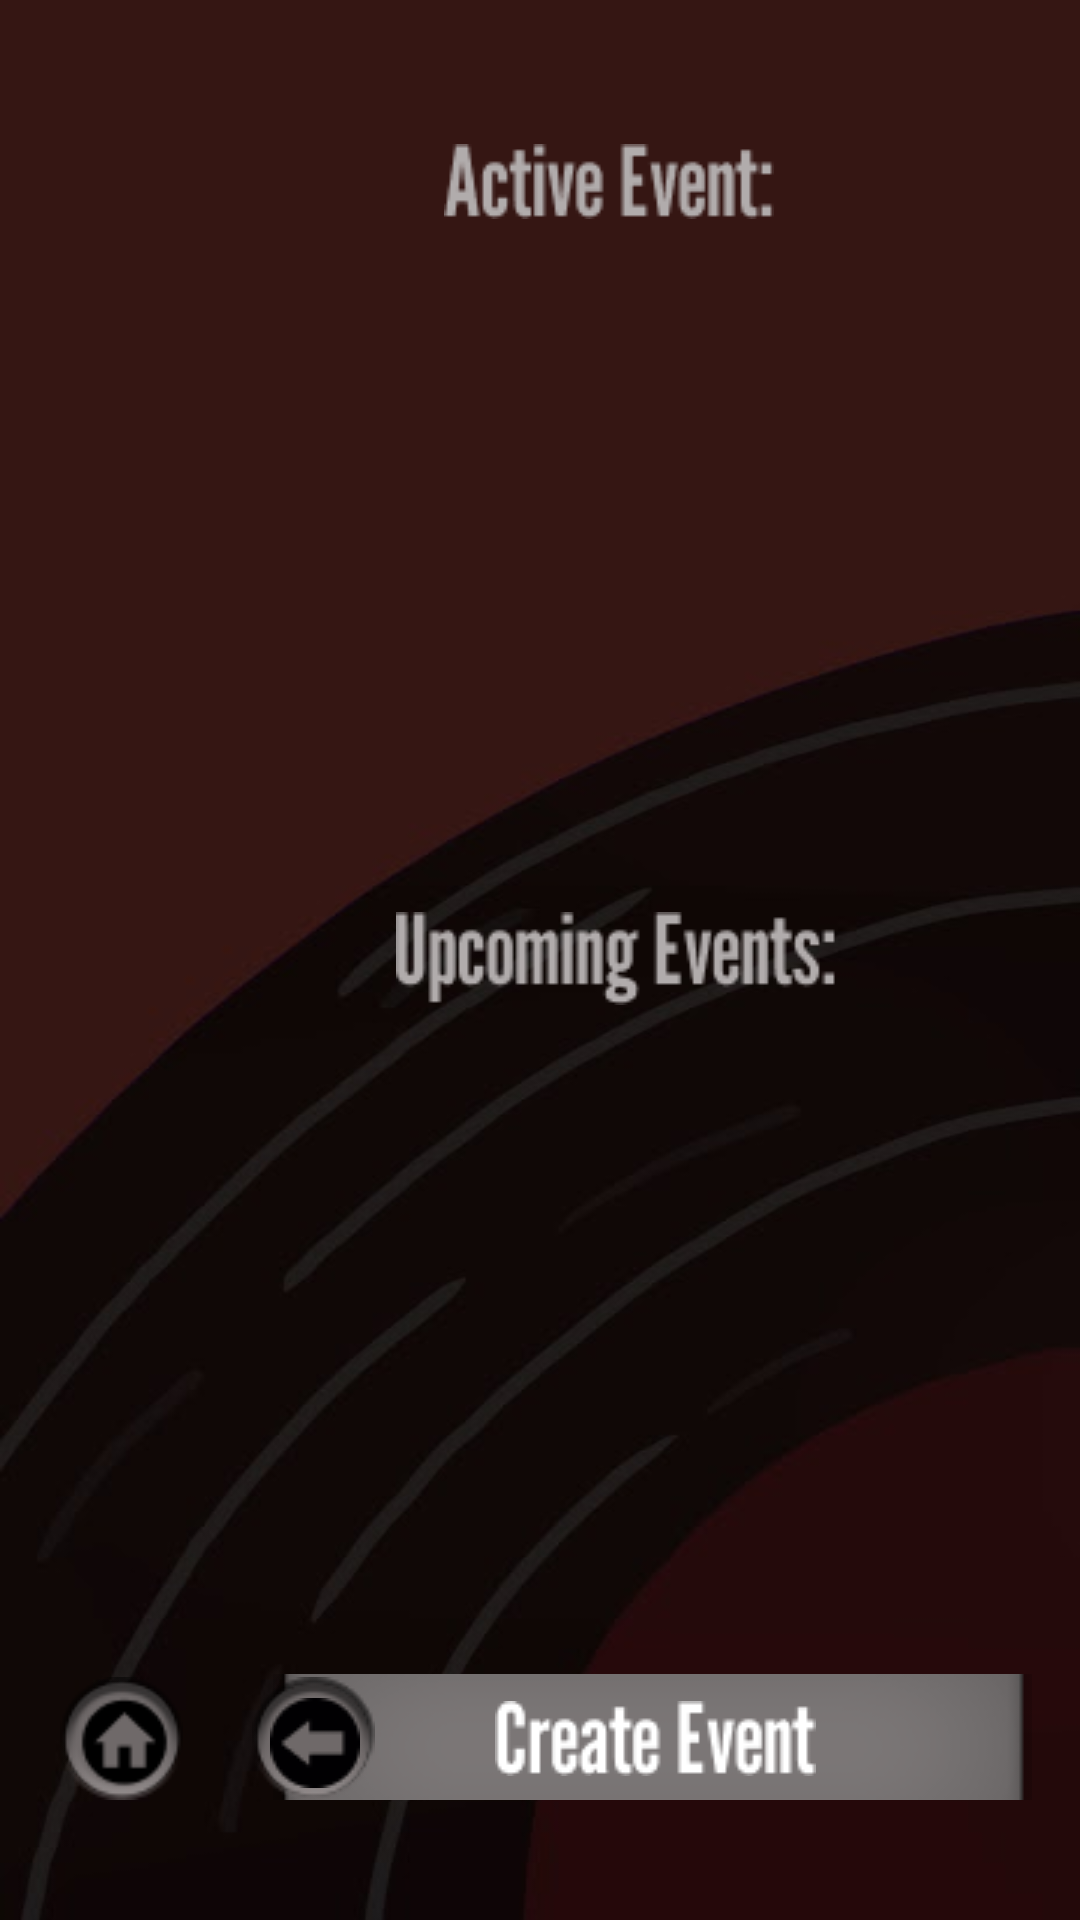

Where to tap for icons on this 1080x1920 app screen, as point (x, y):
back arrow: point (315, 1743)
home circle: point (124, 1743)
